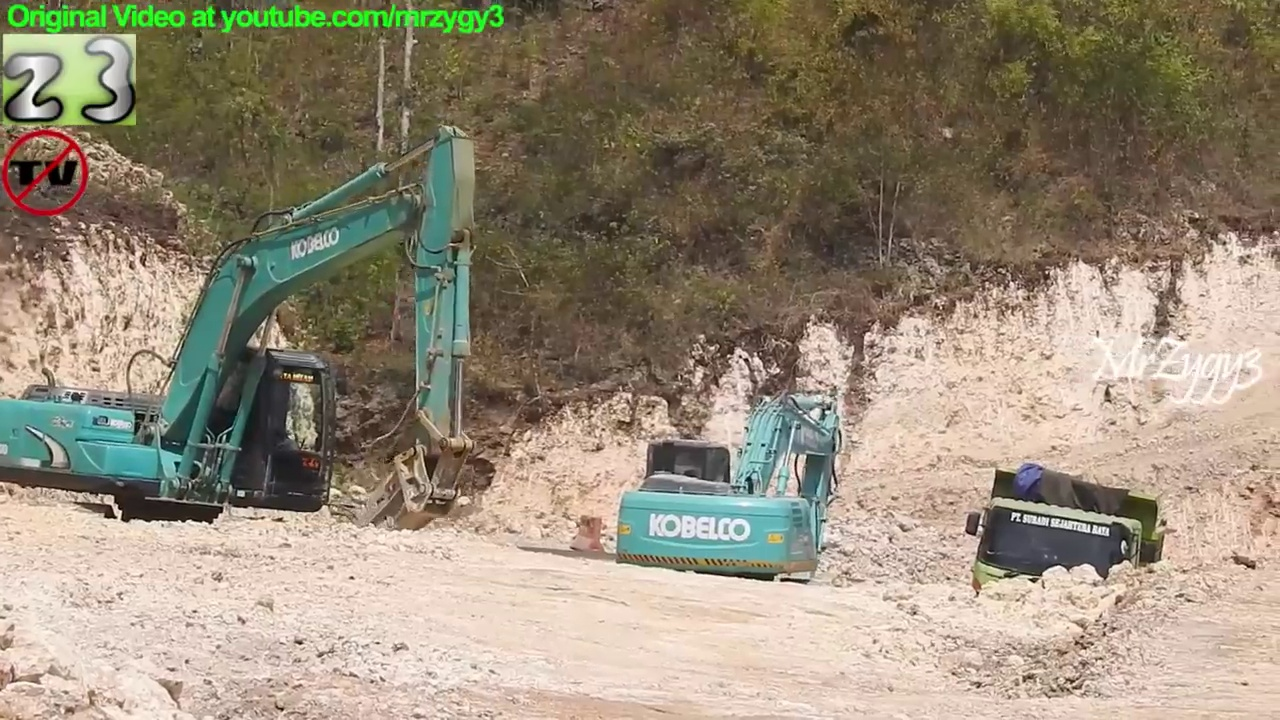excavator: (1, 116, 505, 576), (610, 385, 848, 636)
truck: (962, 458, 1178, 674)
